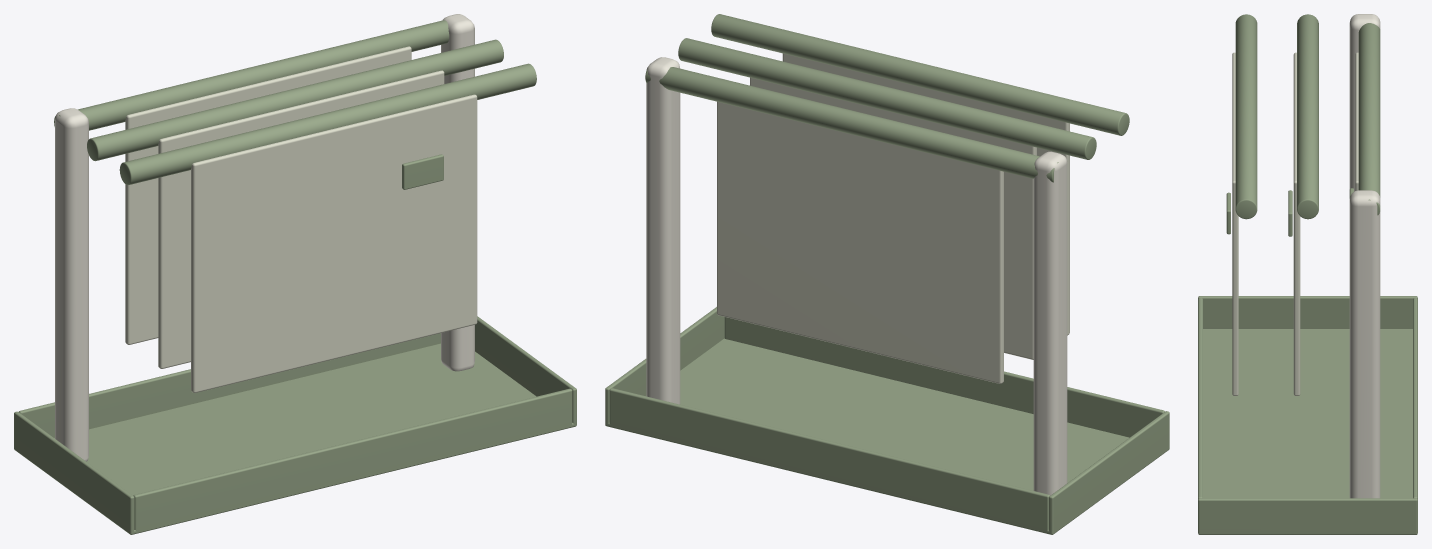
Rendered from washable.glb.
3 renders of one model, left to right at view 1: azimuth 30°, elevation 25°; view 2: azimuth 150°, elevation 25°; view 3: azimuth 270°, elevation 25°, orthographic. The views are drawn at different scales.
Visible parts, largest first — view 1: Folded room cloth 0, Drying tray floor, Drying tray front, Rack upright, Folded room cloth 1, Folded room cloth 2, Drying rail 0, Drying rail 1, Drying rail 2, Drying tray back, Drying tray left, Drying tray right (+2 smaller); view 2: Folded room cloth 2, Drying tray floor, Drying tray back, Rack upright, Rack upright.001, Drying tray front, Drying rail 1, Drying rail 0, Drying rail 2, Folded room cloth 1, Drying tray left, Folded room cloth 0 (+1 smaller); view 3: Drying tray floor, Rack upright.001, Drying tray right, Drying tray left, Drying rail 0, Drying rail 1, Drying rail 2, Folded room cloth 1, Folded room cloth 0, Rack upright, Drying tray back, Drying tray front (+1 smaller).
Boxes of the visible parts, box(x1,y1,x2,y2) form: Folded room cloth 0: box(191, 94, 477, 392); Drying tray floor: box(54, 343, 576, 534); Drying tray front: box(133, 388, 572, 533); Rack upright: box(55, 108, 88, 461); Folded room cloth 1: box(158, 70, 444, 368); Folded room cloth 2: box(125, 46, 411, 344); Drying rail 0: box(119, 63, 536, 185); Drying rail 1: box(87, 39, 503, 161); Drying rail 2: box(54, 20, 449, 130); Drying tray back: box(19, 333, 440, 437); Drying tray left: box(14, 411, 134, 534); Drying tray right: box(475, 316, 576, 425); Folded room cloth 2: box(717, 101, 1003, 383); Drying tray floor: box(605, 338, 1129, 534); Drying tray back: box(609, 388, 1049, 533); Rack upright: box(1033, 151, 1067, 495); Rack upright.001: box(646, 57, 680, 404); Drying tray front: box(724, 317, 1164, 437); Drying rail 1: box(678, 38, 1096, 159); Drying rail 0: box(711, 14, 1129, 135); Drying rail 2: box(645, 67, 1058, 182); Folded room cloth 1: box(750, 77, 1036, 359); Drying tray left: box(1049, 411, 1169, 534); Folded room cloth 0: box(782, 53, 1069, 335); Drying tray floor: box(1198, 329, 1417, 534); Rack upright.001: box(1349, 190, 1380, 498); Drying tray right: box(1198, 498, 1417, 534); Drying tray left: box(1198, 296, 1417, 328); Drying rail 0: box(1235, 14, 1257, 219); Drying rail 1: box(1297, 14, 1318, 219); Drying rail 2: box(1358, 23, 1380, 215); Folded room cloth 1: box(1293, 52, 1300, 395); Folded room cloth 0: box(1232, 52, 1238, 395); Rack upright: box(1349, 14, 1380, 191); Drying tray back: box(1413, 298, 1417, 499); Drying tray front: box(1198, 298, 1202, 499).
Size of the model in its own units: 0.22 by 0.165 by 0.1.
